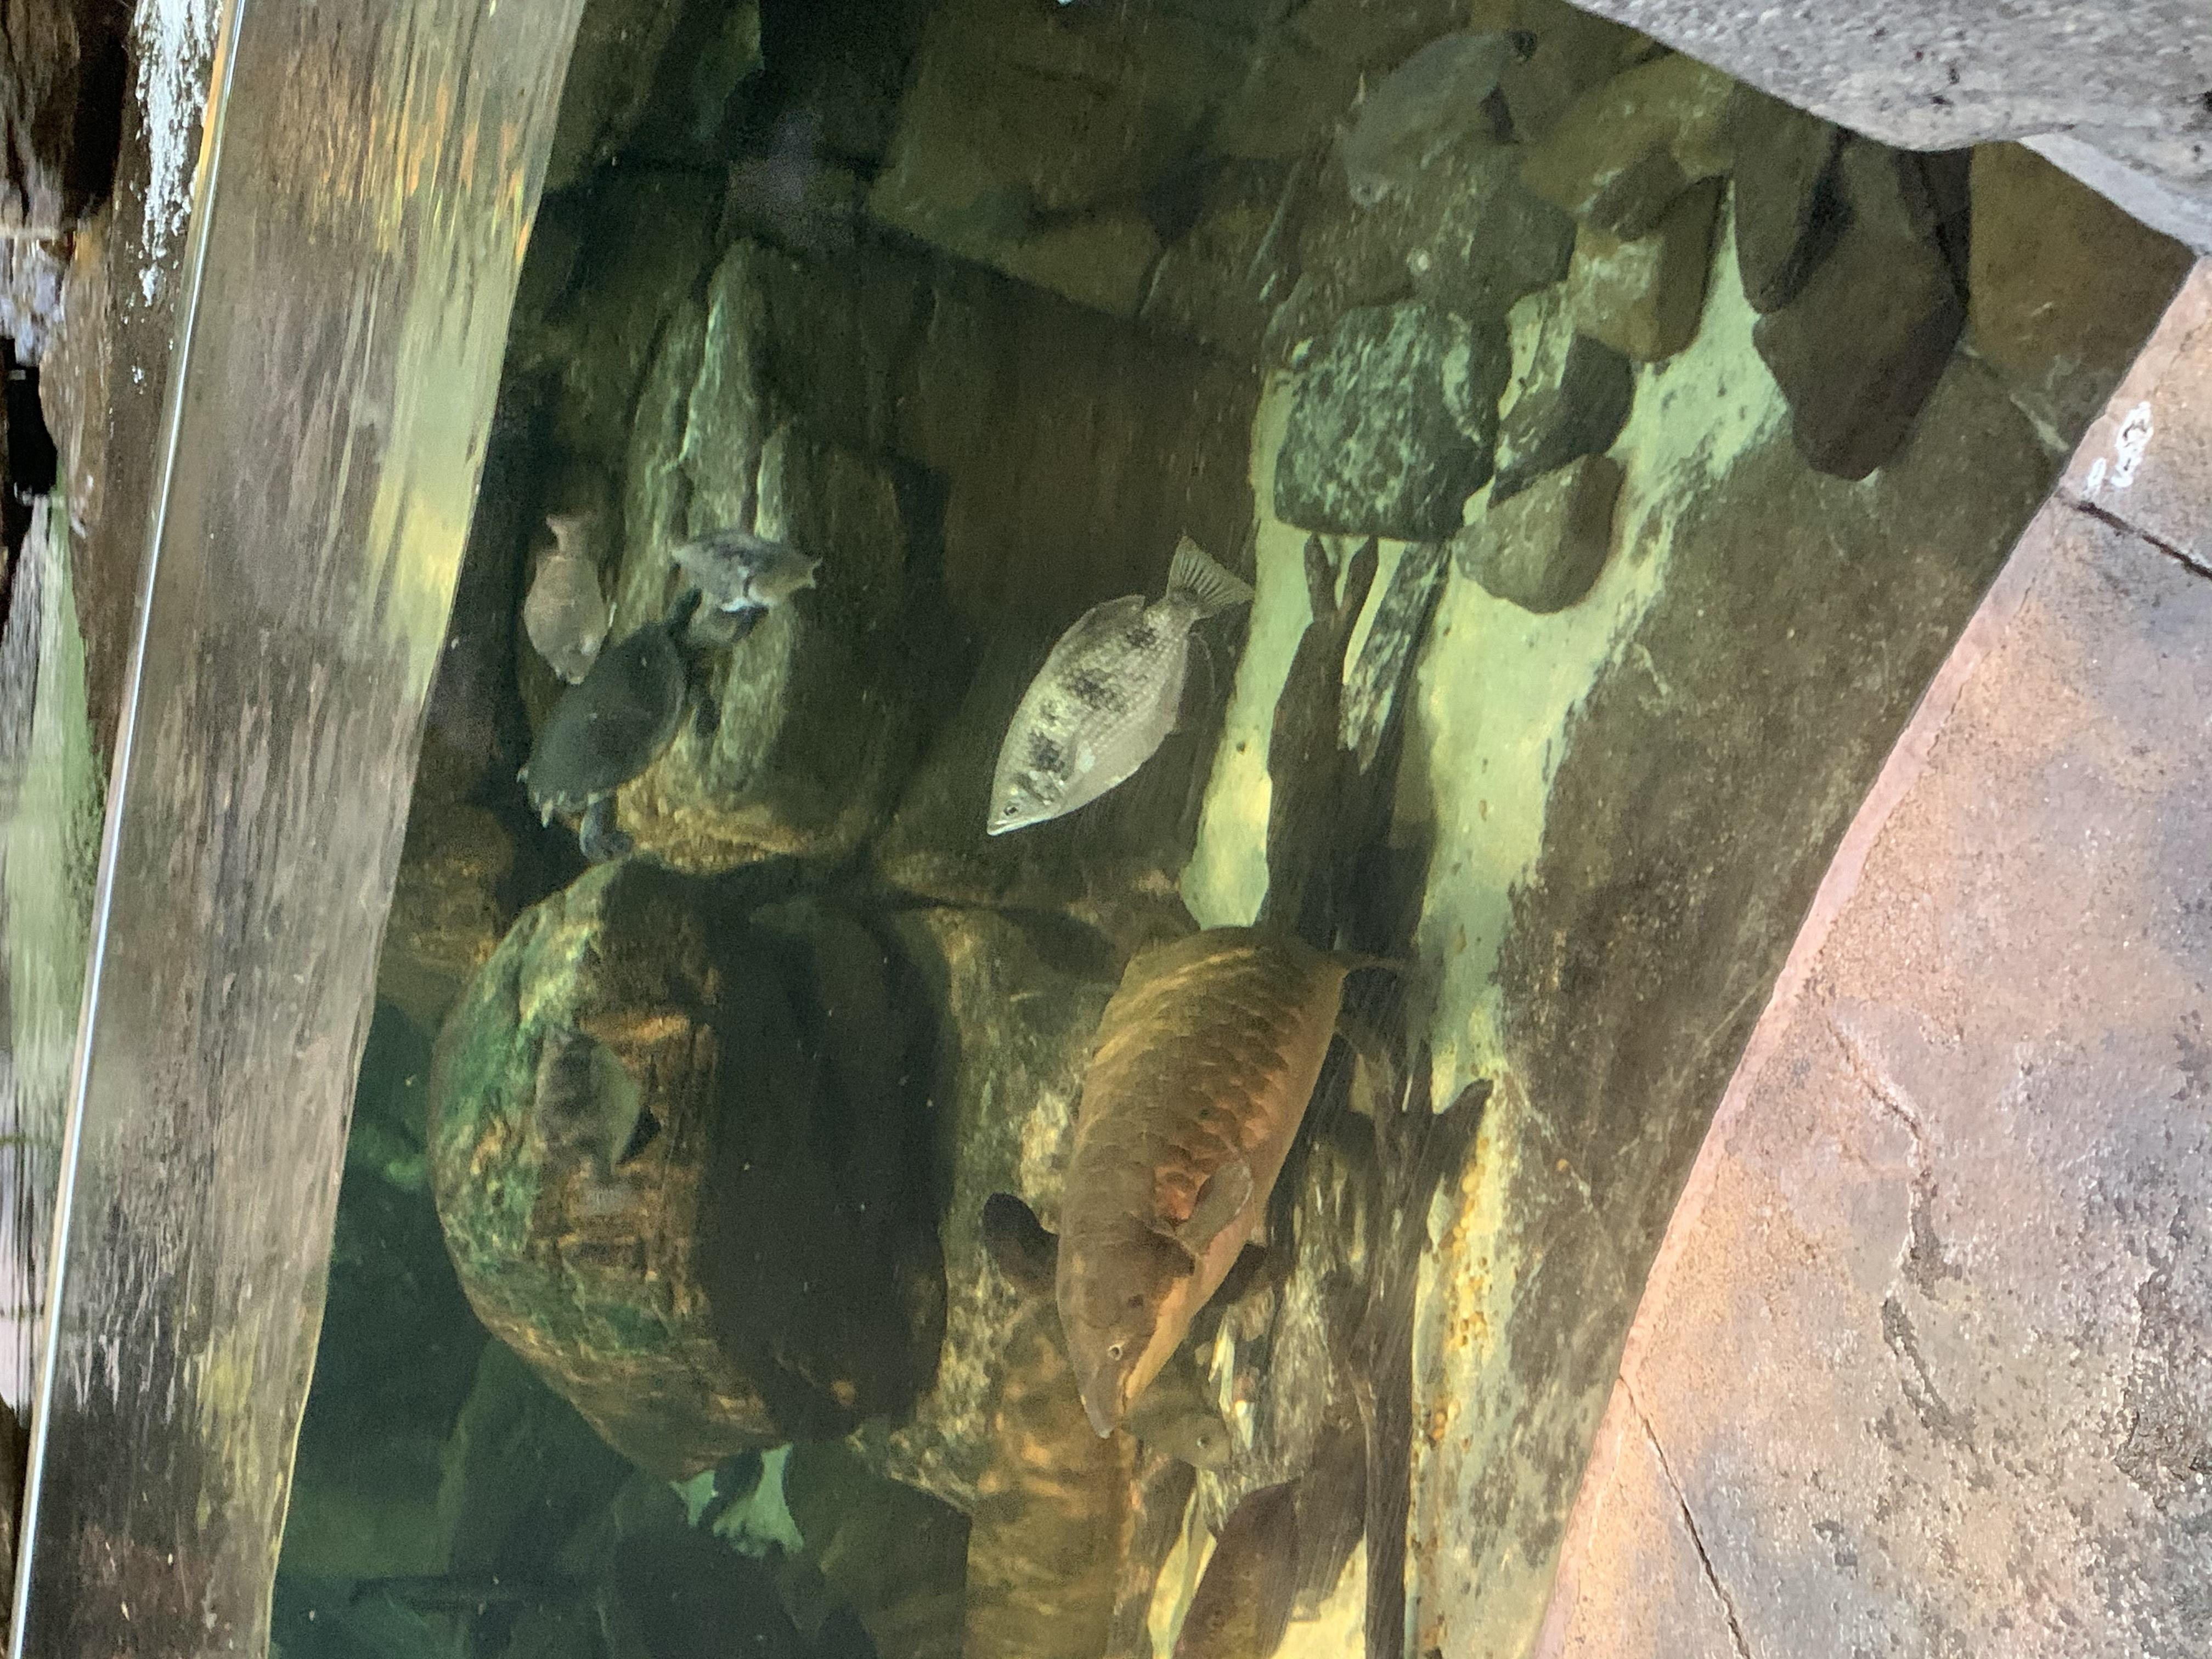fish: (1049, 894, 1352, 1438), (975, 532, 1266, 838), (1341, 23, 1534, 216), (514, 504, 629, 692), (648, 519, 827, 619), (1129, 1345, 1238, 1476)
